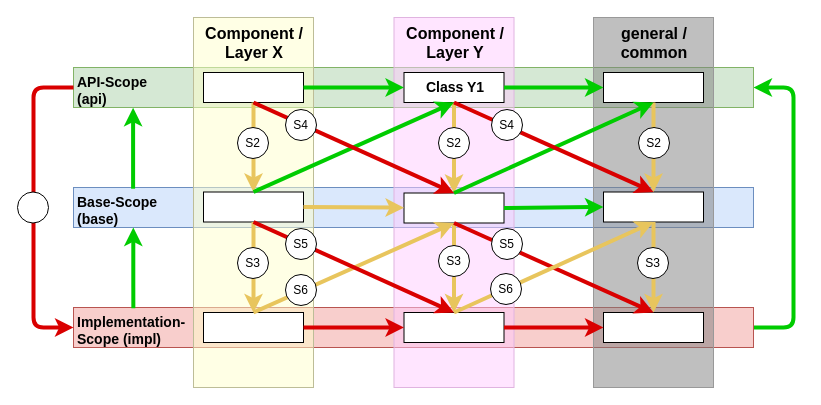
The diagram is 821 pixels wide and 405 high, and some of its shapes have lost their labels. The shapes that lost their labels are listed below. From the top down, each one's box as (x1, y1, x2, y2) in pixels, then its label:
(202, 72, 304, 102): Class X1
(602, 72, 704, 102): Class GC1
(16, 191, 48, 223): S1
(202, 191, 304, 222): Class X2
(403, 192, 504, 223): Class Y2
(602, 191, 704, 222): Class GC2
(202, 312, 304, 342): Class X3
(403, 312, 504, 342): Class Y3
(602, 312, 704, 342): Class GC3
